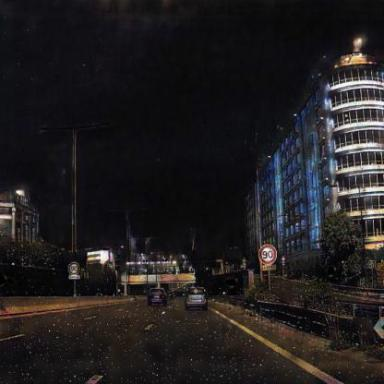Speed_limit_90: (259, 244, 277, 266)
